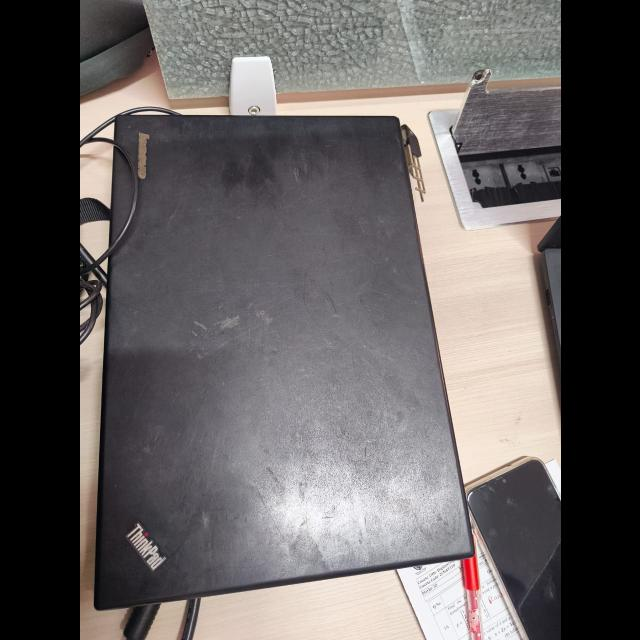laptop: (99, 89, 485, 593)
